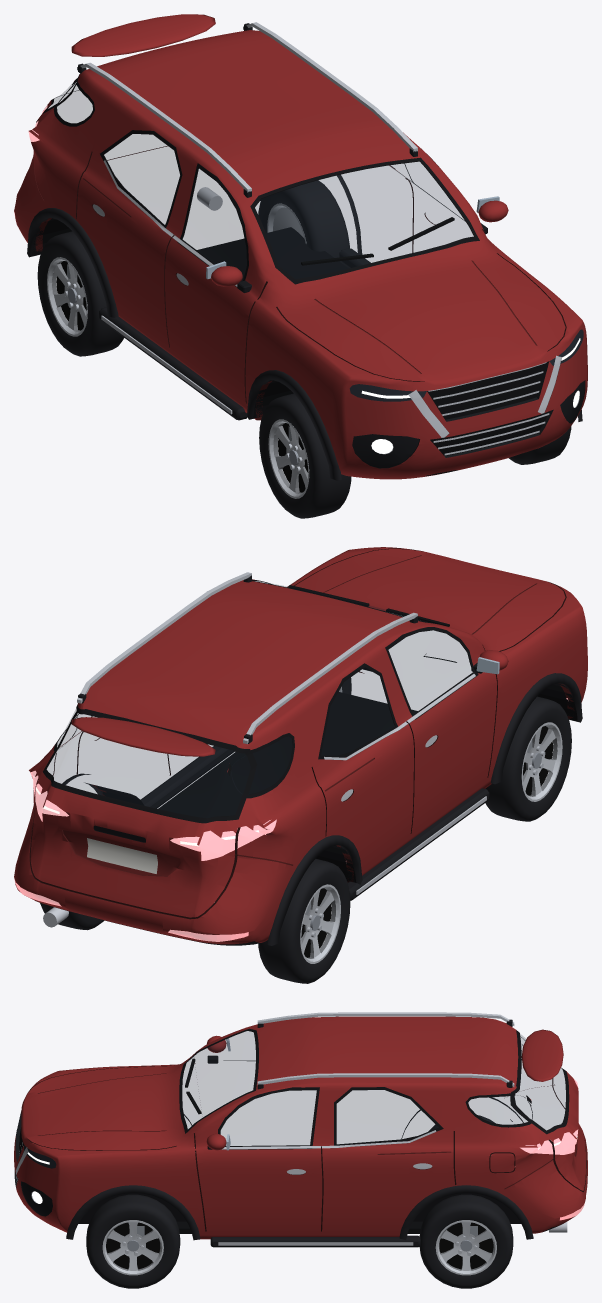
File: car_suv_red.glb
3 views of the same model, one above another, from view 1: azimuth 30°, elevation 25°; view 2: azimuth 150°, elevation 25°; view 3: azimuth 270°, elevation 25° (orthographic). The views are drawn at different scales.
Parts seen in each view (by area): view 1: body, wheel_fl, wheel_rl, wheel_rr, wheel_fr; view 2: body, wheel_rl, wheel_fl, wheel_rr; view 3: body, wheel_fr, wheel_rr.
Boxes of the visible parts, x1,y1,x2,y2 form: body: (14,14,587,480); wheel_fl: (259,393,351,518); wheel_rl: (37,231,123,356); wheel_rr: (258,180,349,268); wheel_fr: (509,426,571,464); body: (14,547,587,945); wheel_rl: (258,859,350,983); wheel_fl: (485,696,571,821); wheel_rr: (40,903,104,930); body: (14,1012,587,1247); wheel_fr: (86,1194,180,1288); wheel_rr: (419,1194,513,1288).
Bounding box in the file's own units: 2.1 × 1.82 × 4.73.
